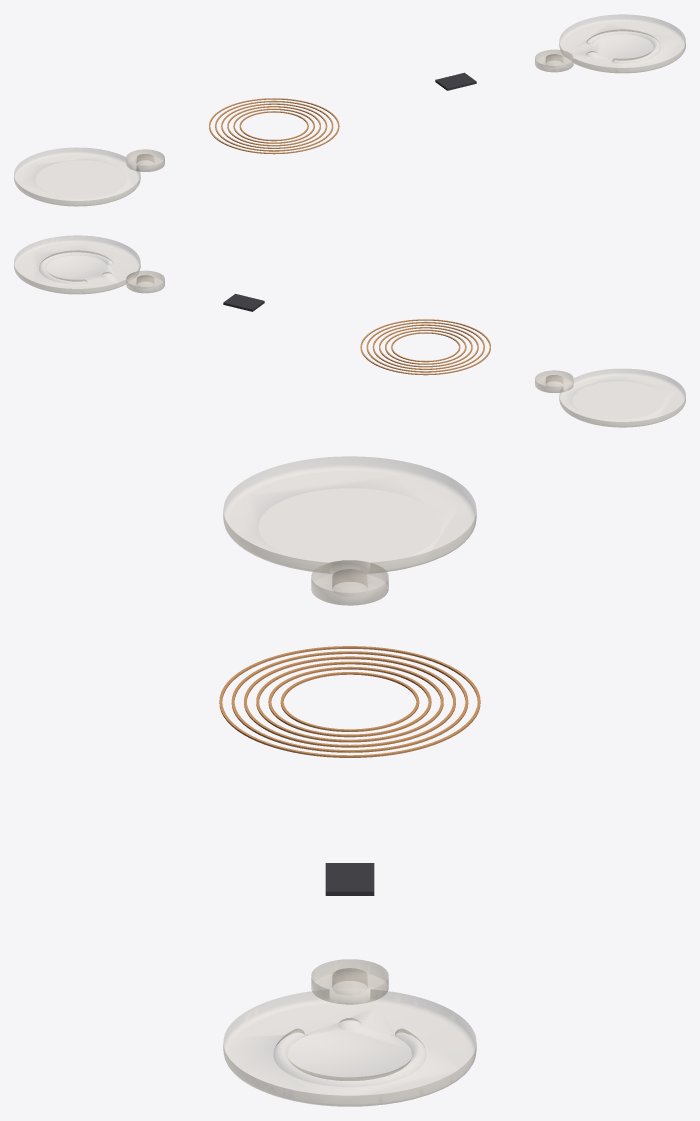
The model's file is medalhao.glb.
3 views of the same model, one above another, from view 1: azimuth 30°, elevation 25°; view 2: azimuth 150°, elevation 25°; view 3: azimuth 270°, elevation 25° (orthographic). The views are drawn at different scales.
Parts seen in each view (by area): view 1: Base, Espira_00, Chip; view 2: Base, Espira_00, Chip; view 3: Base, Espira_00, Chip.
Boxes of the visible parts, left/top/right/bottom form: Base: left=14, top=14, right=685, bottom=206; Espira_00: left=209, top=98, right=339, bottom=154; Chip: left=435, top=72, right=476, bottom=90; Base: left=14, top=235, right=685, bottom=427; Espira_00: left=360, top=319, right=490, bottom=375; Chip: left=223, top=294, right=264, bottom=311; Base: left=223, top=456, right=476, bottom=1106; Espira_00: left=219, top=646, right=480, bottom=757; Chip: left=325, top=863, right=374, bottom=895.
Size of the model in its own units: 0.2151 by 0.00234 by 0.0372.
3 materials, 1 textured.
